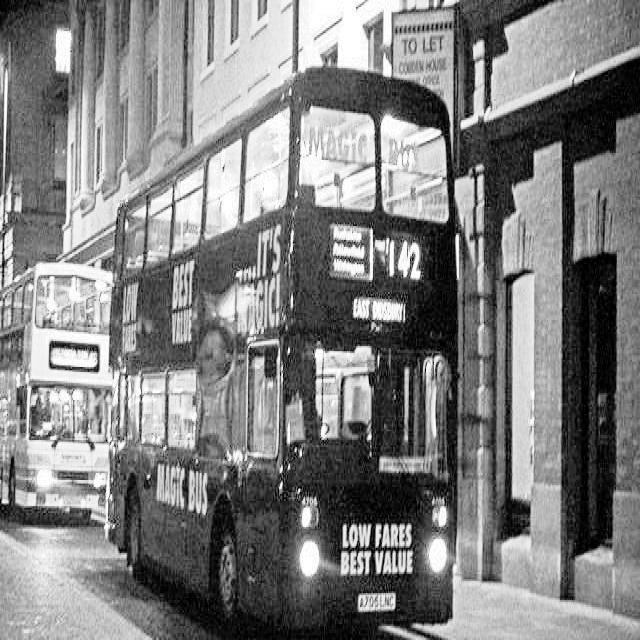Bus: (108, 53, 475, 629), (0, 236, 111, 526)
